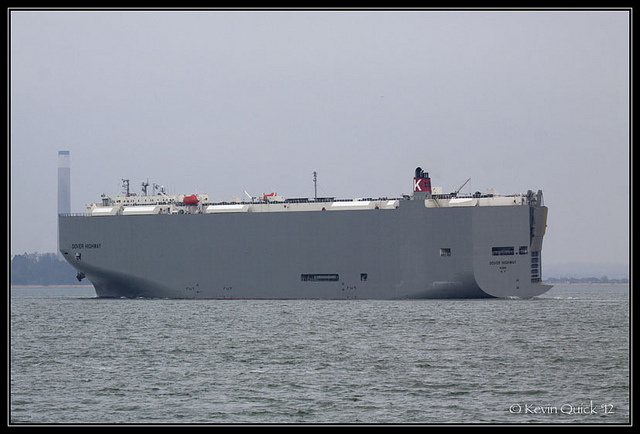PCC: (52, 170, 559, 306)
